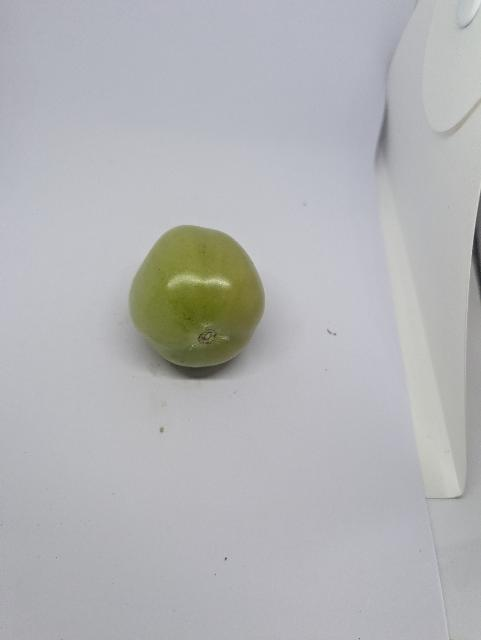green: (121, 218, 278, 386)
